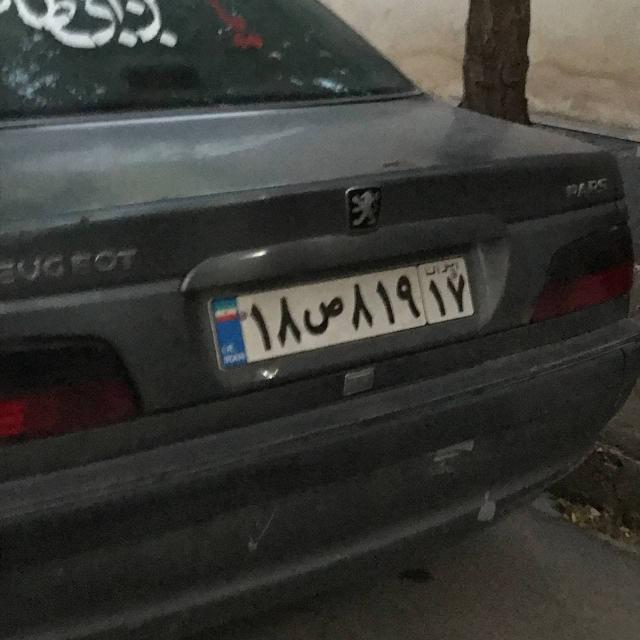Plates: (209, 251, 476, 369)
